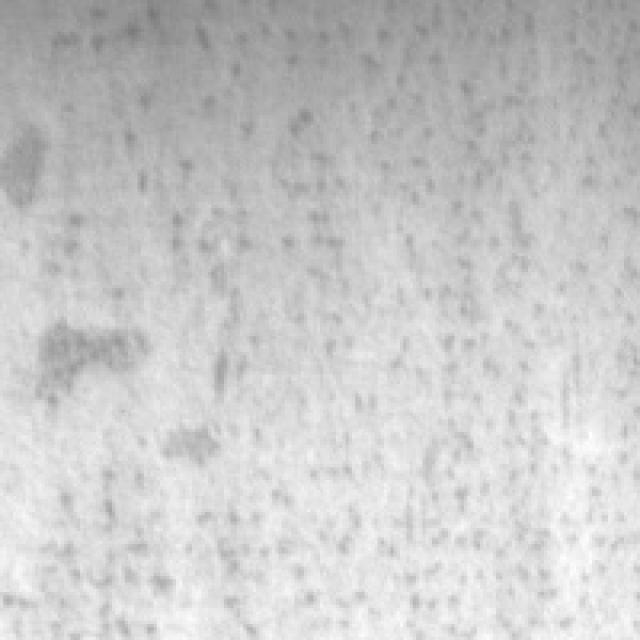pitted_surface: (61, 0, 640, 627), (6, 115, 205, 634)
